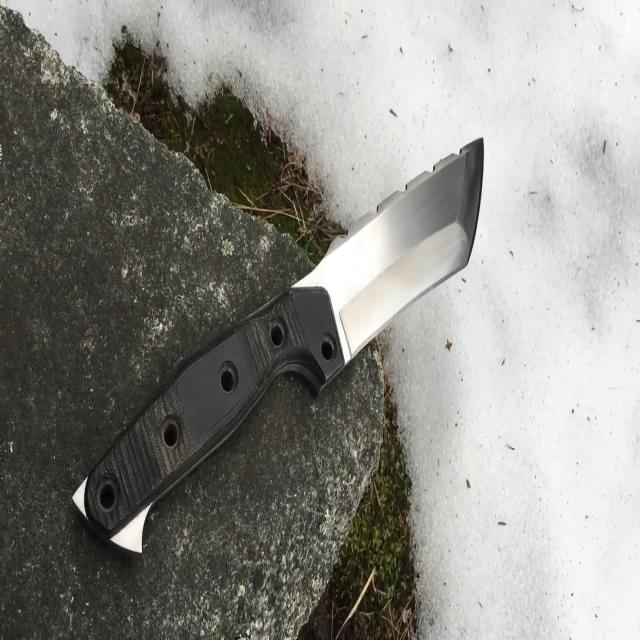knife: (49, 119, 499, 573)
